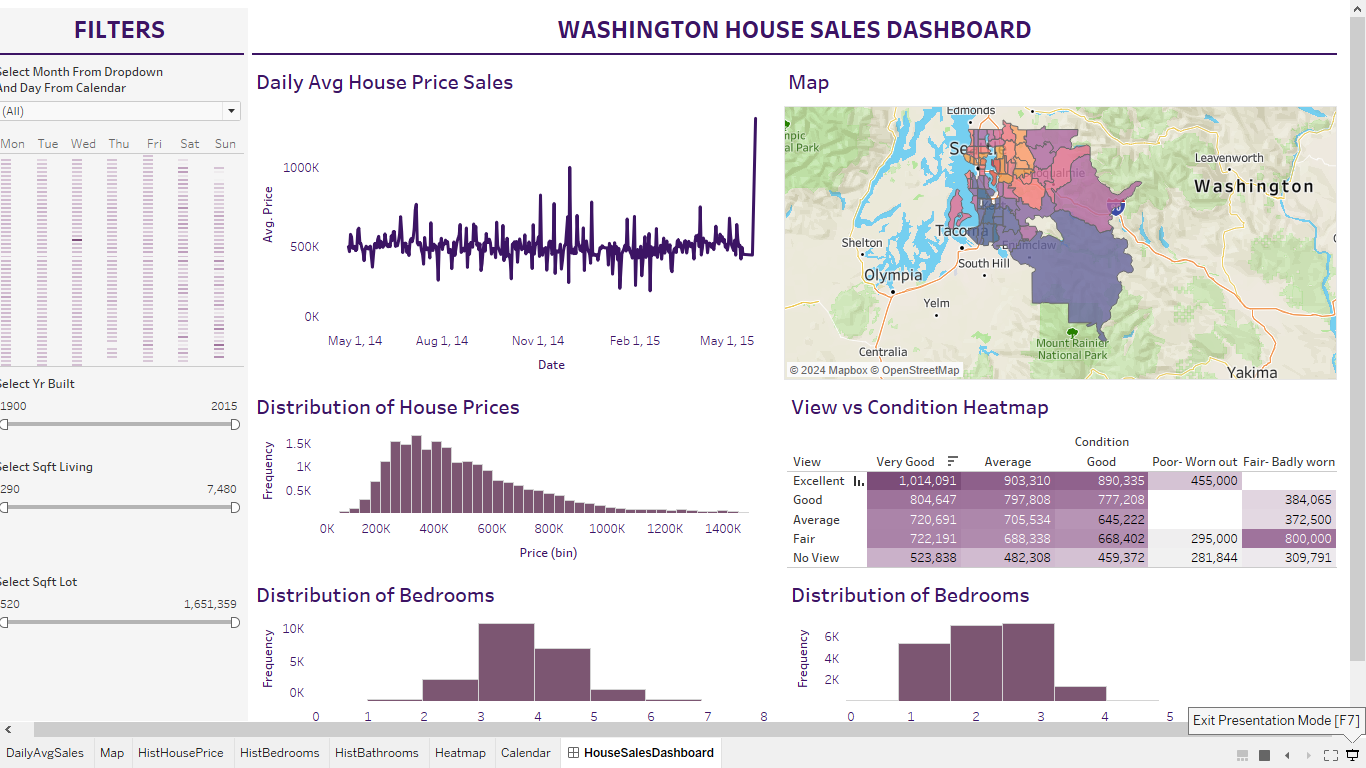

The page's visual inventory and layout, read from the dashboard file:
{"tool":"tableau","page":{"name":"HouseSalesDashboard","canvas":[1000,1000],"units":"permille","ordinal":0},"visuals":[{"type":"text","box":[5.9,10.4,188,53.4]},{"type":"text","box":[193.8,10.4,800.3,53.4]},{"type":"blank","box":[5.9,63.8,188,13]},{"type":"blank","box":[193.8,63.8,800.3,13]},{"type":"filter","title":"Calendar","param":"[federated.1q1gs9513awccd1ajrgbm1bpk5w9].[my:date:ok]","box":[5.9,76.8,188,91.2]},{"type":"worksheet","title":"DailyAvgSales","mark":"Automatic","rows":["price"],"cols":["date"],"box":[193.8,76.8,387,423.2]},{"type":"worksheet","title":"Map","mark":"Automatic","box":[580.8,76.8,413.3,423.2]},{"type":"worksheet","title":"Calendar","mark":"Square","rows":["date"],"cols":["date"],"box":[5.9,168,188,315.1]},{"type":"filter","title":"Calendar","param":"[federated.1q1gs9513awccd1ajrgbm1bpk5w9].[none:yr_built:qk]","box":[5.9,483.1,188,108.1]},{"type":"worksheet","title":"HistHousePrice","mark":"Automatic","rows":["price"],"cols":["Price (bin)"],"box":[193.8,500,391.7,244.8]},{"type":"worksheet","title":"Heatmap","mark":"Square","rows":["view"],"cols":["condition"],"box":[585.5,500,408.6,244.8]},{"type":"filter","title":"Calendar","param":"[federated.1q1gs9513awccd1ajrgbm1bpk5w9].[none:sqft_living:qk]","box":[5.9,591.2,188,149.7]},{"type":"filter","title":"Calendar","param":"[federated.1q1gs9513awccd1ajrgbm1bpk5w9].[none:sqft_lot:qk]","box":[5.9,740.9,188,145.8]},{"type":"worksheet","title":"HistBedrooms","mark":"Automatic","rows":["bedrooms"],"cols":["Bedrooms (bin)"],"box":[193.8,744.8,391.7,244.8]},{"type":"worksheet","title":"HistBathrooms","mark":"Automatic","rows":["bathrooms"],"cols":["Bathrooms (bin)"],"box":[585.5,744.8,408.6,244.8]}]}

Visuals, with their boxes on the dashboard's canvas, which has no fixed pixel size, in thousandths of its width and height (x1, y1, x2, y2). These are canvas units, not pixel positions in the 1366x768 screenshot, which may show the page scaled, cropped or inside an application window:
text: box=[6, 10, 194, 64]
text: box=[194, 10, 994, 64]
blank: box=[6, 64, 194, 77]
blank: box=[194, 64, 994, 77]
"Calendar" filter: box=[6, 77, 194, 168]
"DailyAvgSales" worksheet: box=[194, 77, 581, 500]
"Map" worksheet: box=[581, 77, 994, 500]
"Calendar" worksheet (Square marks): box=[6, 168, 194, 483]
"Calendar" filter: box=[6, 483, 194, 591]
"HistHousePrice" worksheet: box=[194, 500, 586, 745]
"Heatmap" worksheet (Square marks): box=[586, 500, 994, 745]
"Calendar" filter: box=[6, 591, 194, 741]
"Calendar" filter: box=[6, 741, 194, 887]
"HistBedrooms" worksheet: box=[194, 745, 586, 990]
"HistBathrooms" worksheet: box=[586, 745, 994, 990]
